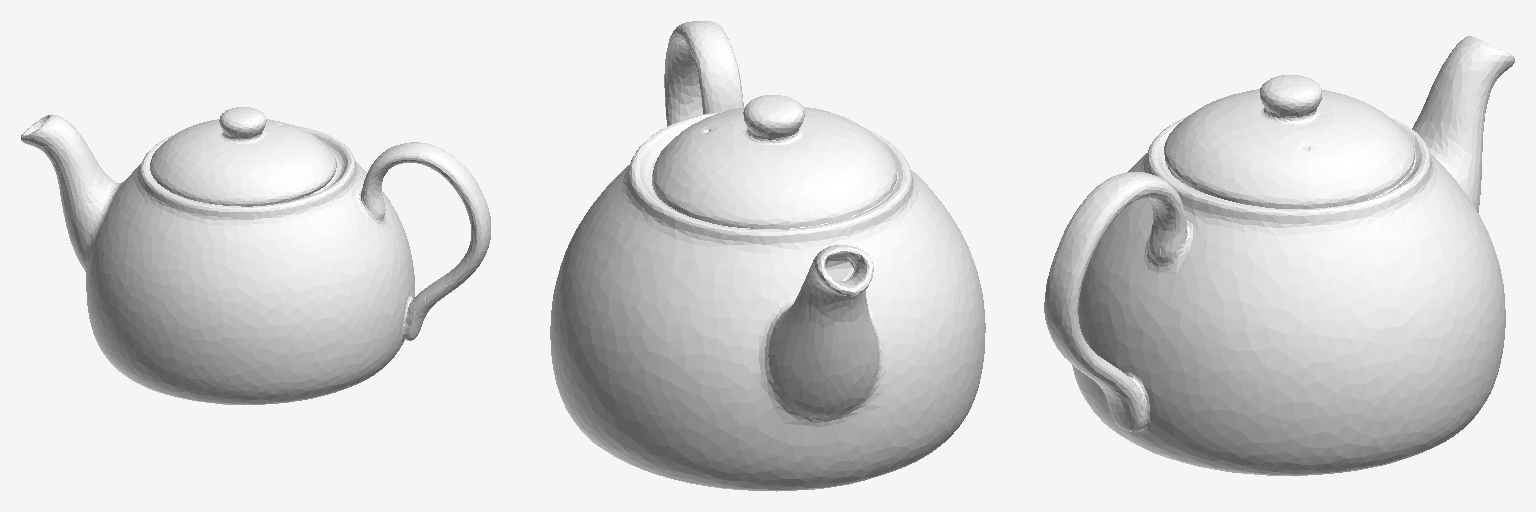
URDF robot description (model):
<?xml version="1.0" ?>
    <robot name="model">
    <link name="base">
        <inertial>
            <origin rpy="0 0 0" xyz="0 0 0"/>
            <mass value="1.0"/>
            <inertia ixx="1" ixy="0" ixz="0" iyy="1" iyz="0" izz="1"/>
        </inertial>
    <visual>
        <origin rpy="0 0 0" xyz="0 0 0"/>
        <geometry>
        <mesh filename="./meshes/model.obj" scale="1 1 1"/>
        </geometry>
        <material name="white">
        <color rgba="1 1 1 1"/>
        </material>
    </visual>
    <collision>
        <origin rpy="0 0 0" xyz="0 0 0"/>
        <geometry>
        <mesh filename="./meshes/model_vhacd.obj" scale="1 1 1"/>
        </geometry>
    </collision>
    </link>
    <link name="grasp">
        <inertial>
        <origin rpy="0 0 0" xyz="0 0 0"/>
        <mass value="0.0"/>
        <inertia ixx="1" ixy="0" ixz="0" iyy="1" iyz="0" izz="1"/>
        </inertial>
    </link>
    <joint name="base__grasp" type="fixed">
        <origin xyz="0.06 -0.07 0.07" rpy="0.0 0.0 0.0"/>
        <parent link="base"/>
        <child link="grasp"/>
    </joint>
    </robot>

--- What the picture shows (computed from the rendered views, not written in the file) ---
3 views of the same robot in one strip: view 1: azimuth 30°, elevation 25°; view 2: azimuth 150°, elevation 25°; view 3: azimuth 270°, elevation 25° (orthographic).
Model model with 2 links and 1 joints (1 fixed), rooted at base, posed every joint at zero.
Visible links, largest first — view 1: base; view 2: base; view 3: base.
Link boxes in pixels (x1=…): base: x1=21, y1=107, x2=490, y2=404; base: x1=550, y1=21, x2=985, y2=491; base: x1=1044, y1=36, x2=1514, y2=475.
Bounding box of the posed robot: 0.1867 × 0.1843 × 0.1363 m (x, y, z).
Meshes: 1 distinct files referenced, 1 mesh visuals loaded (1 OBJ).